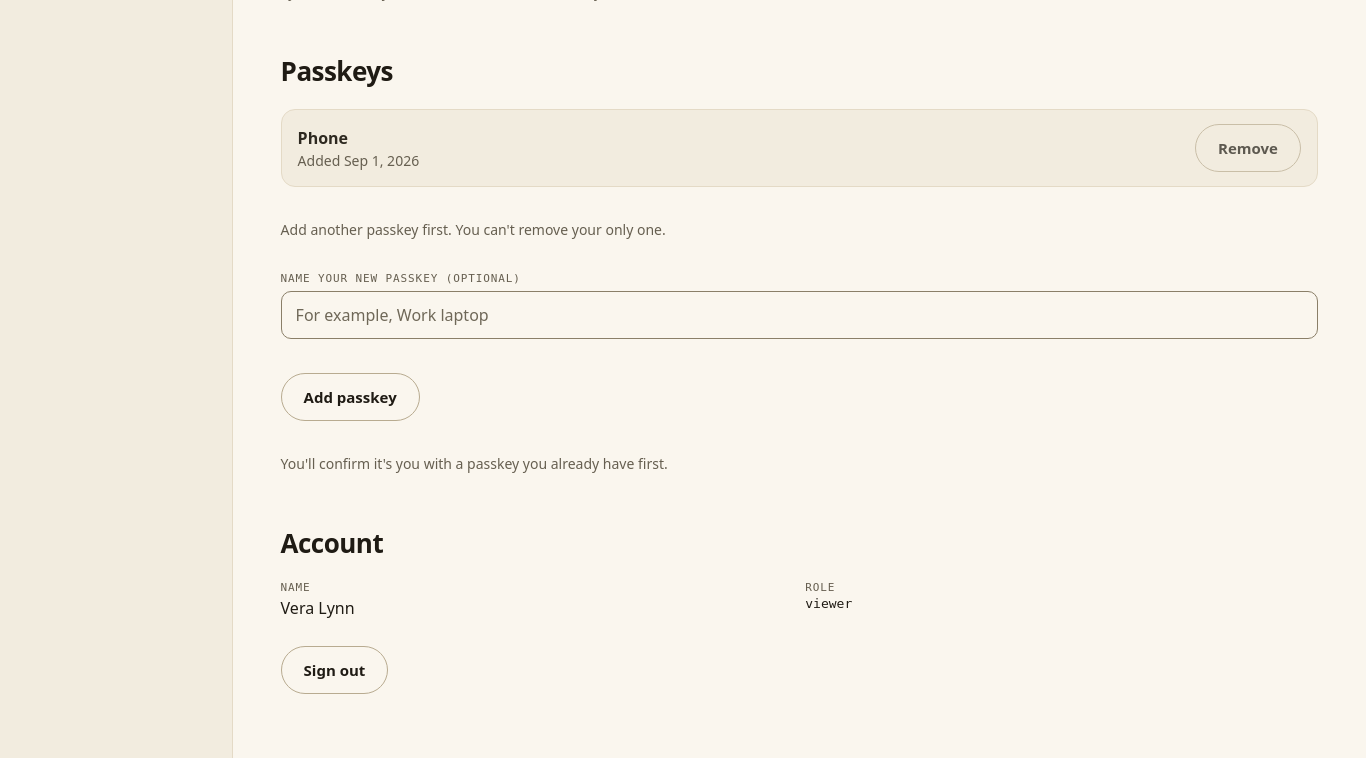
Test: a refused confirmation shows the error and does not register
(page scrolled)
Click the button "Add passkey": point(350, 397) [281, 373, 420, 421]
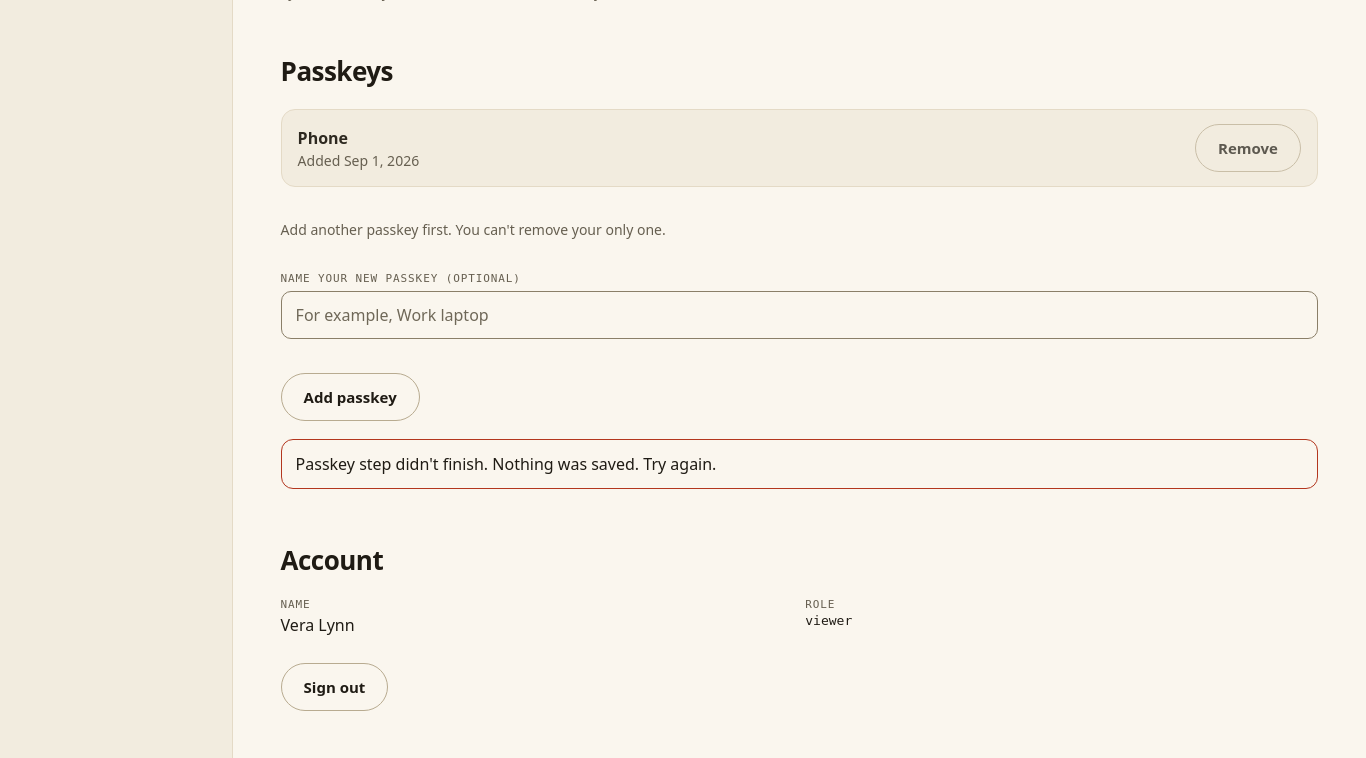
expect the message shows "Passkey step didn't finish.": met, box [296, 453, 716, 475]
